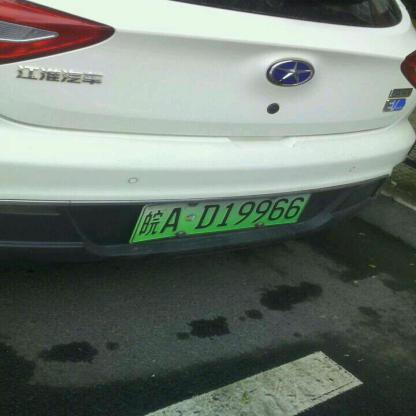lp: (130, 191, 313, 242)
